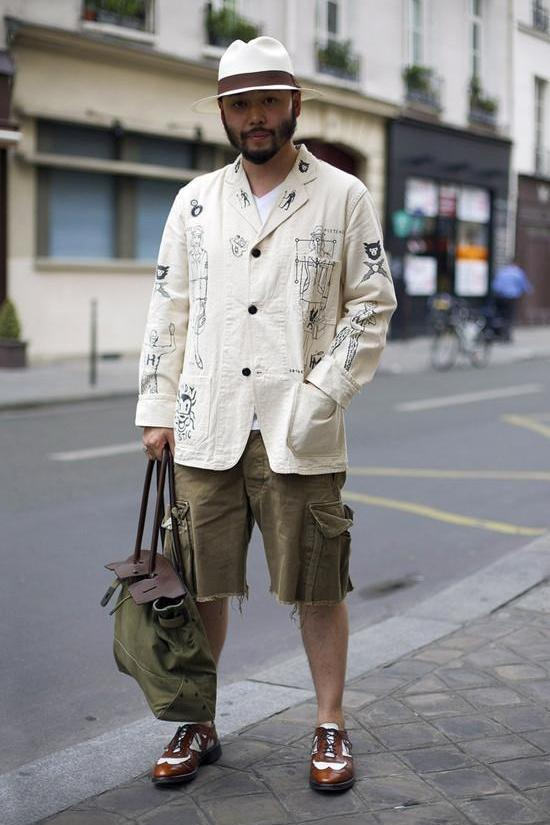short: (160, 424, 354, 604)
sweater: (136, 141, 398, 473)
